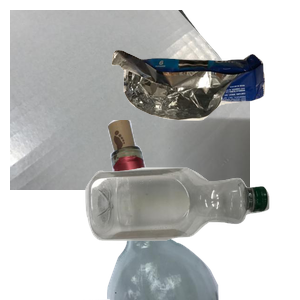cardboard: (10, 10, 250, 190)
glass: (83, 120, 294, 300)
plastic: (83, 165, 300, 300)
trash: (109, 47, 300, 160)
